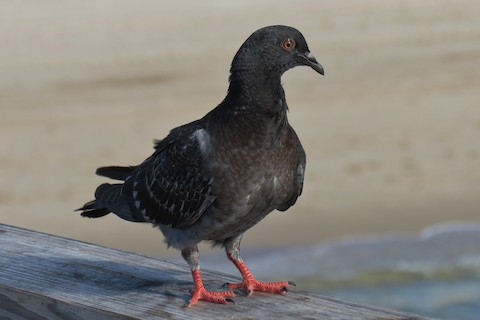pigeon: (74, 19, 332, 310)
